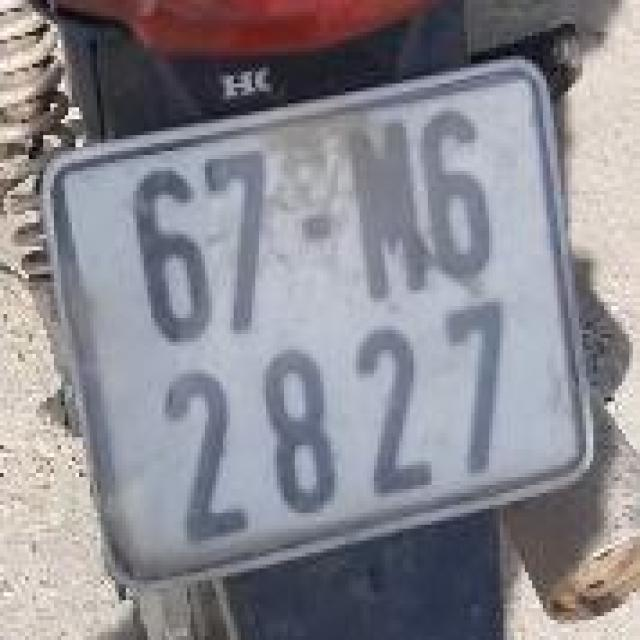2: (160, 370, 250, 560), (345, 326, 432, 509)
6: (119, 167, 223, 346), (423, 104, 505, 286)
7: (437, 286, 512, 477), (200, 147, 278, 330)
8: (259, 346, 338, 517)
M: (332, 123, 430, 294)
